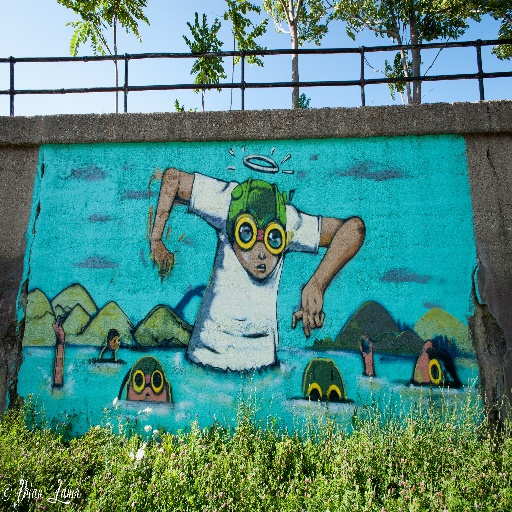hand: (300, 268, 329, 340), (149, 240, 173, 279), (357, 333, 373, 361), (50, 315, 65, 344)
